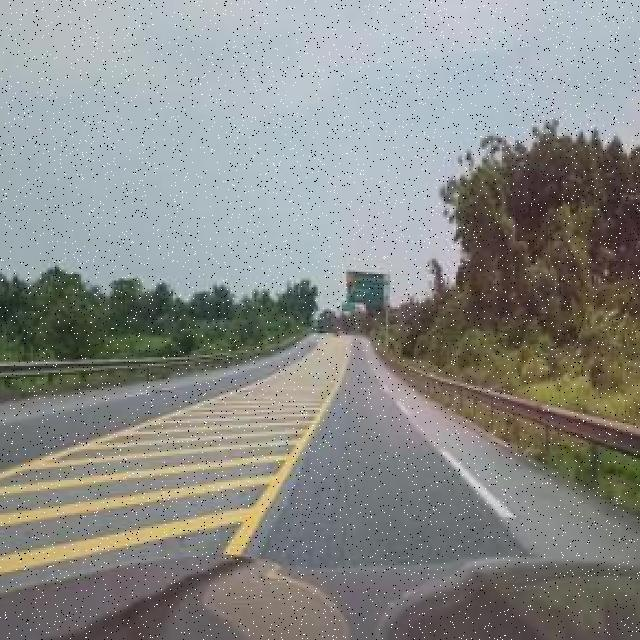clear-road: (246, 338, 640, 568), (0, 337, 317, 470)
